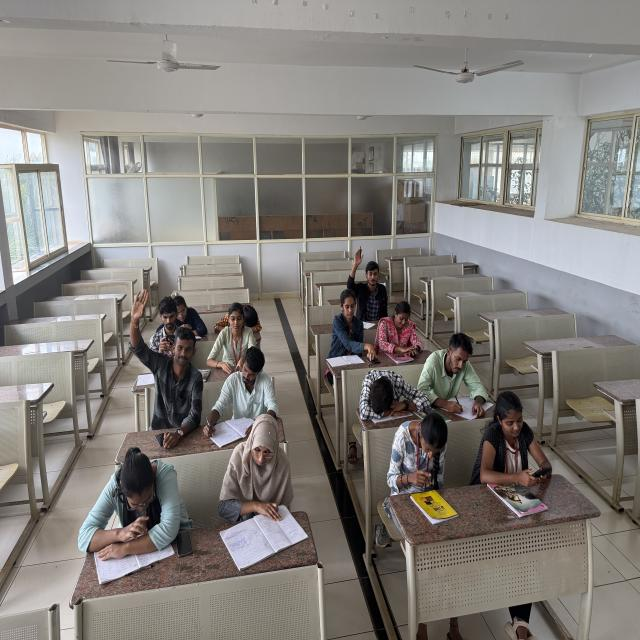Hand Rising: (122, 289, 207, 428), (348, 248, 393, 318)
Reading: (96, 444, 190, 592), (325, 290, 377, 370)
Sleeping: (354, 366, 429, 418), (213, 300, 273, 340)
Using Phone: (478, 386, 561, 484), (386, 414, 461, 522), (154, 293, 193, 370), (373, 300, 423, 358)
Writing: (204, 408, 313, 553), (201, 346, 284, 441), (421, 332, 495, 420)
